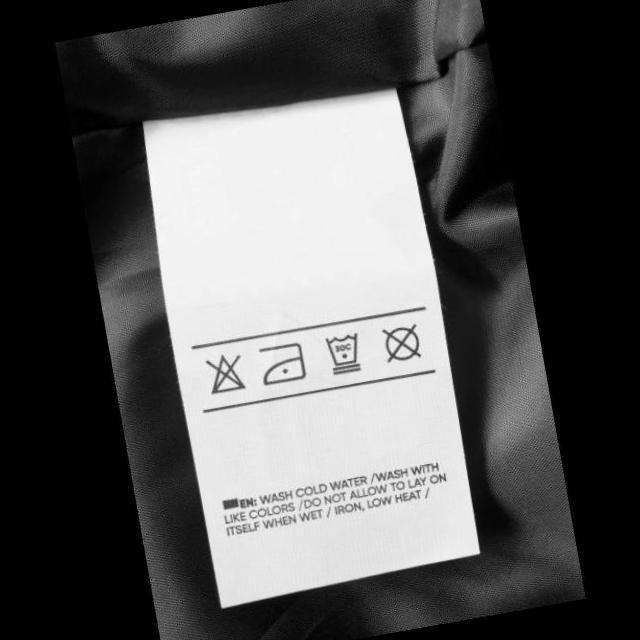30C: (322, 327, 366, 378)
DN_bleach: (200, 348, 249, 397)
DN_dry_clean: (379, 319, 426, 366)
iron_low: (253, 336, 310, 389)
